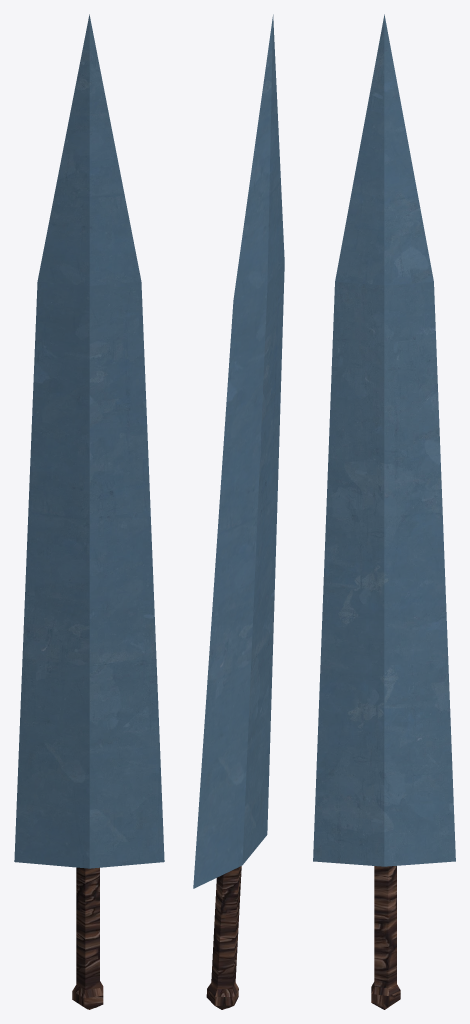
The model's file is Sword.obj.
3 views of the same model, side by side, from view 1: azimuth 90°, elevation 25°; view 2: azimuth 150°, elevation 25°; view 3: azimuth 270°, elevation 25° (orthographic). The views are drawn at different scales.
Parts seen in each view (by area): view 1: Cylinder; view 2: Cylinder; view 3: Cylinder.
Boxes of the visible parts, x1,y1,x2,y2 form: Cylinder: (14,14,164,1009); Cylinder: (193,14,284,1009); Cylinder: (313,14,455,1009).
Size of the model in its own units: 0.7223 by 10.89 by 1.45.
2 materials, 2 textured.
